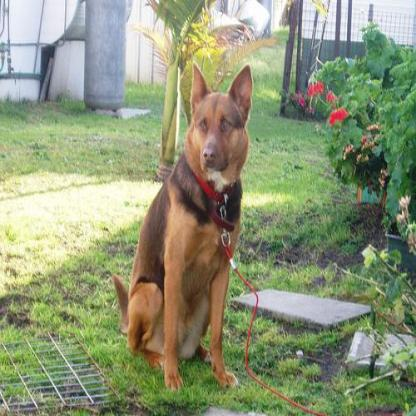kelpie: (111, 62, 252, 394)
